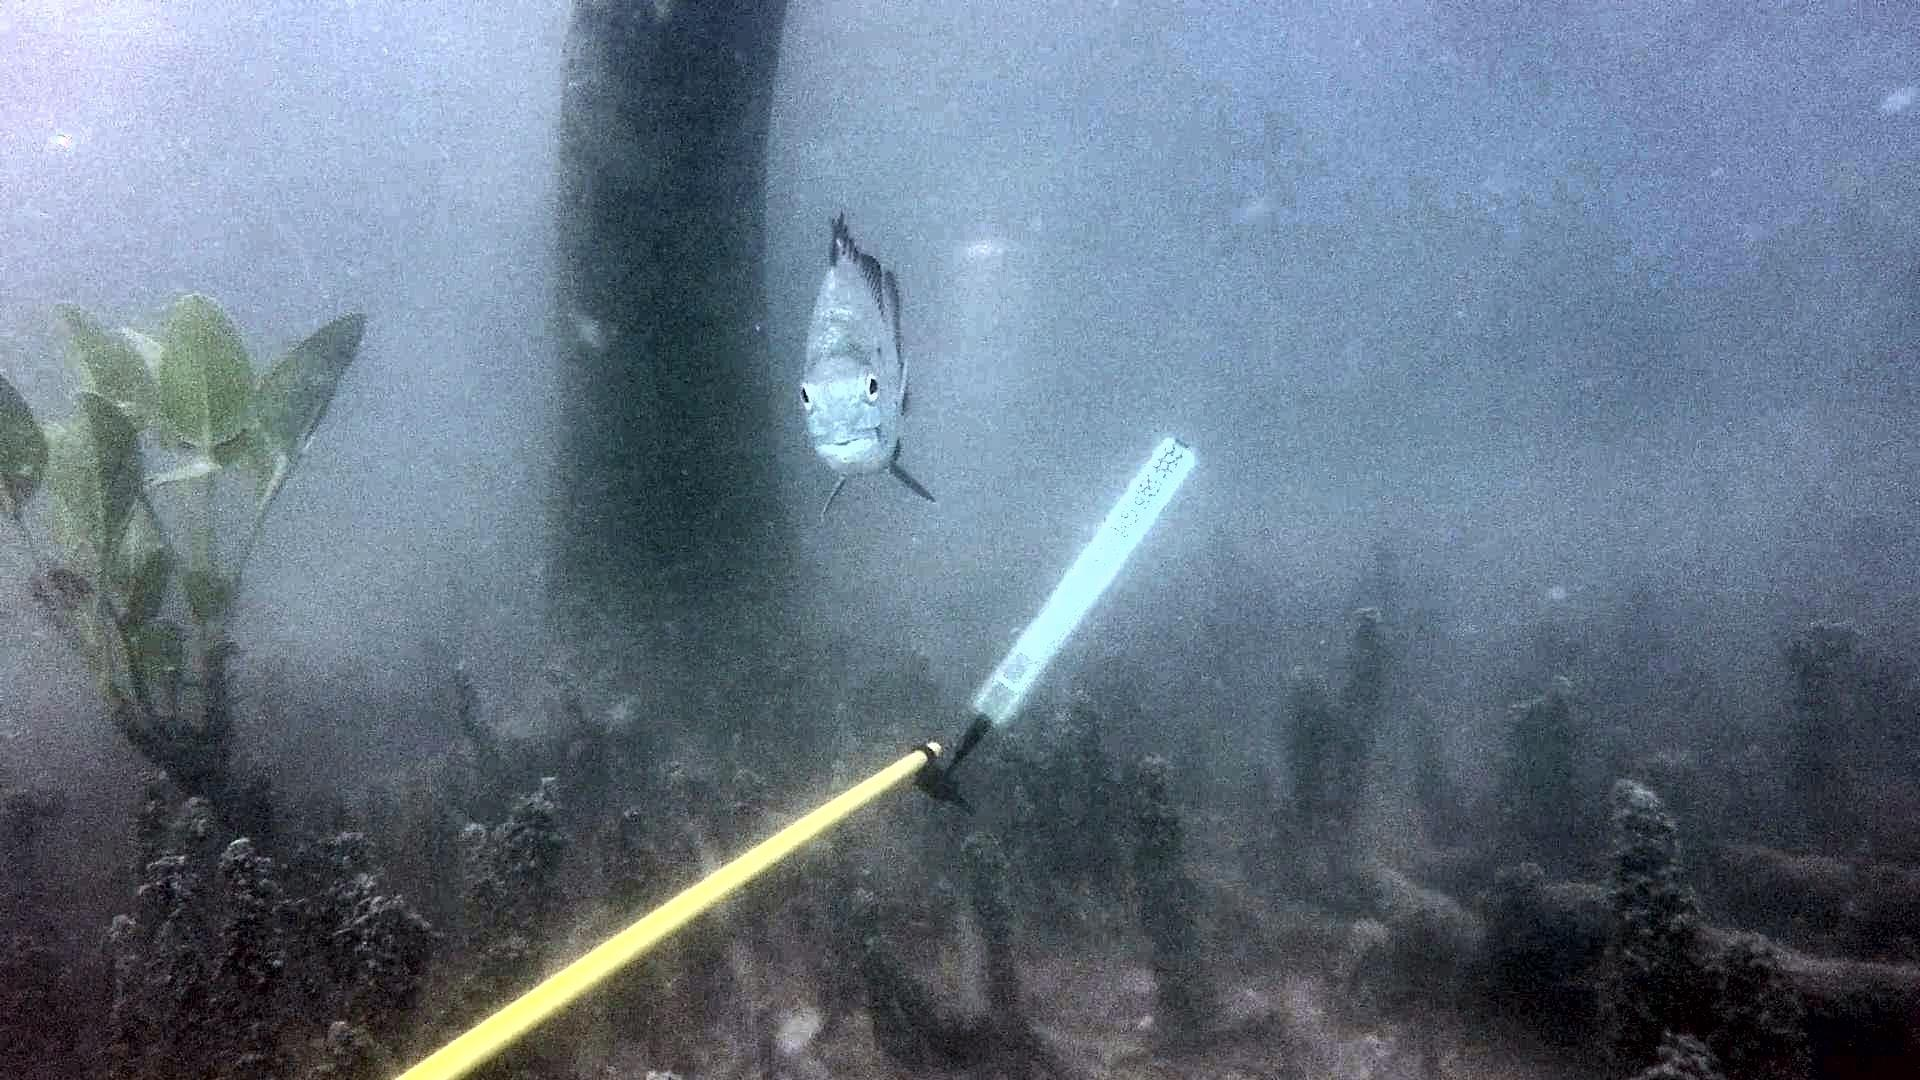acanthopagrus palmaris: (798, 200, 943, 542)
